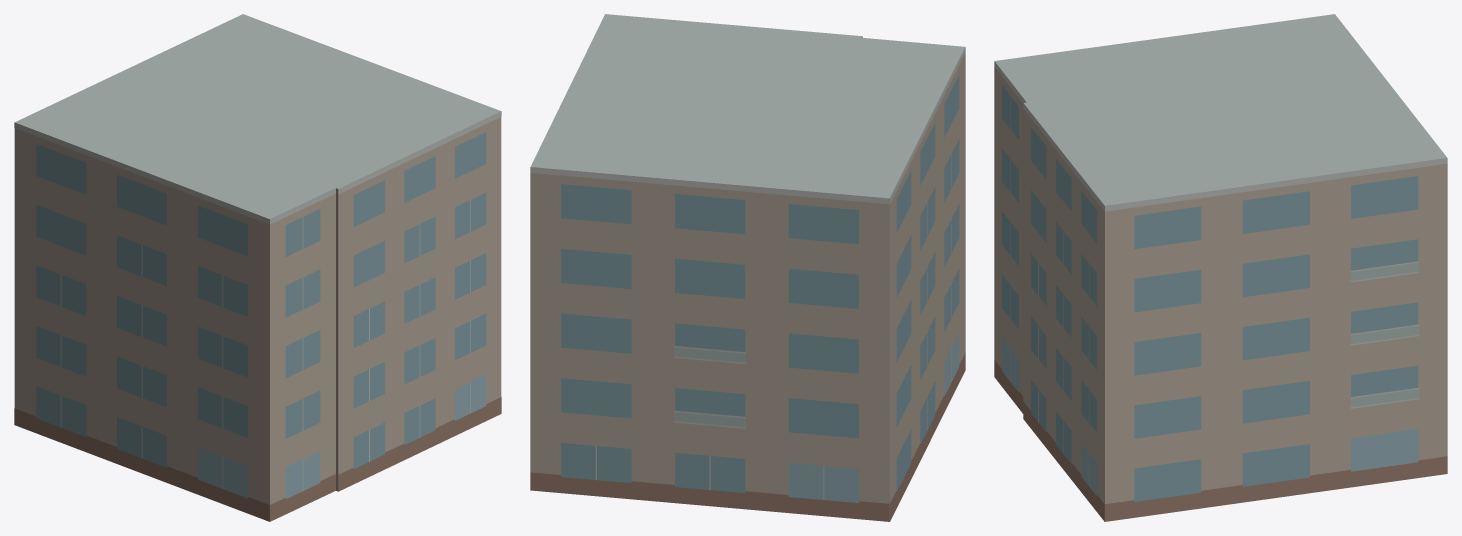
Rendered from survey-upis-32940097.glb.
3 views of the same model, side by side, from view 1: azimuth 30°, elevation 25°; view 2: azimuth 150°, elevation 25°; view 3: azimuth 270°, elevation 25° (orthographic). The views are drawn at different scales.
Parts seen in each view (by area): view 1: survey-upis-32940097.tmp; view 2: survey-upis-32940097.tmp; view 3: survey-upis-32940097.tmp.
Boxes of the visible parts, left/top/right/bottom form: survey-upis-32940097.tmp: left=14, top=14, right=501, bottom=521; survey-upis-32940097.tmp: left=530, top=14, right=965, bottom=521; survey-upis-32940097.tmp: left=994, top=14, right=1447, bottom=521.
Size of the model in its own units: 17.53 by 13.45 by 17.49.
